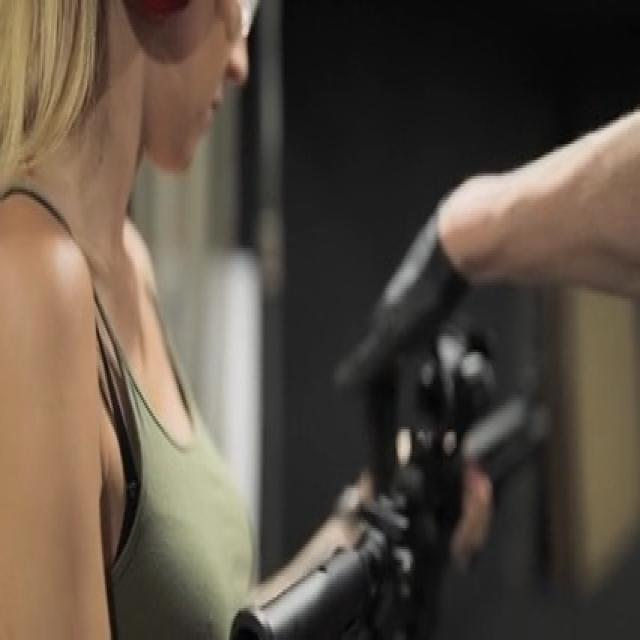Gun_Holder: (192, 310, 640, 640)
Person: (0, 0, 309, 635)
